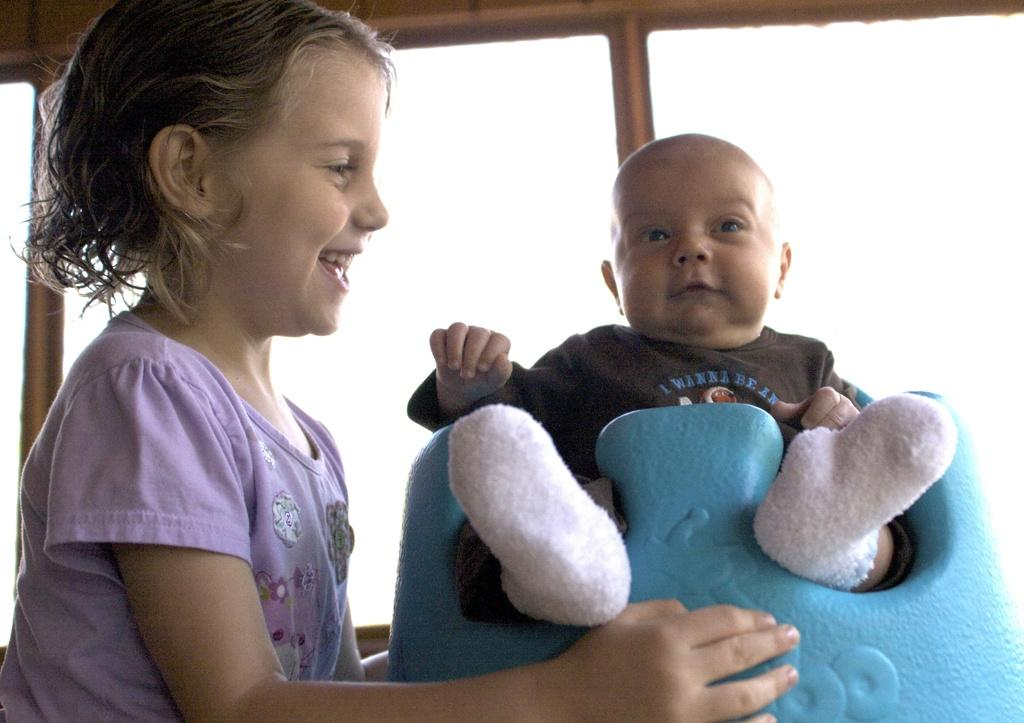Sem Máscara: (198, 42, 389, 336), (613, 149, 783, 337)
